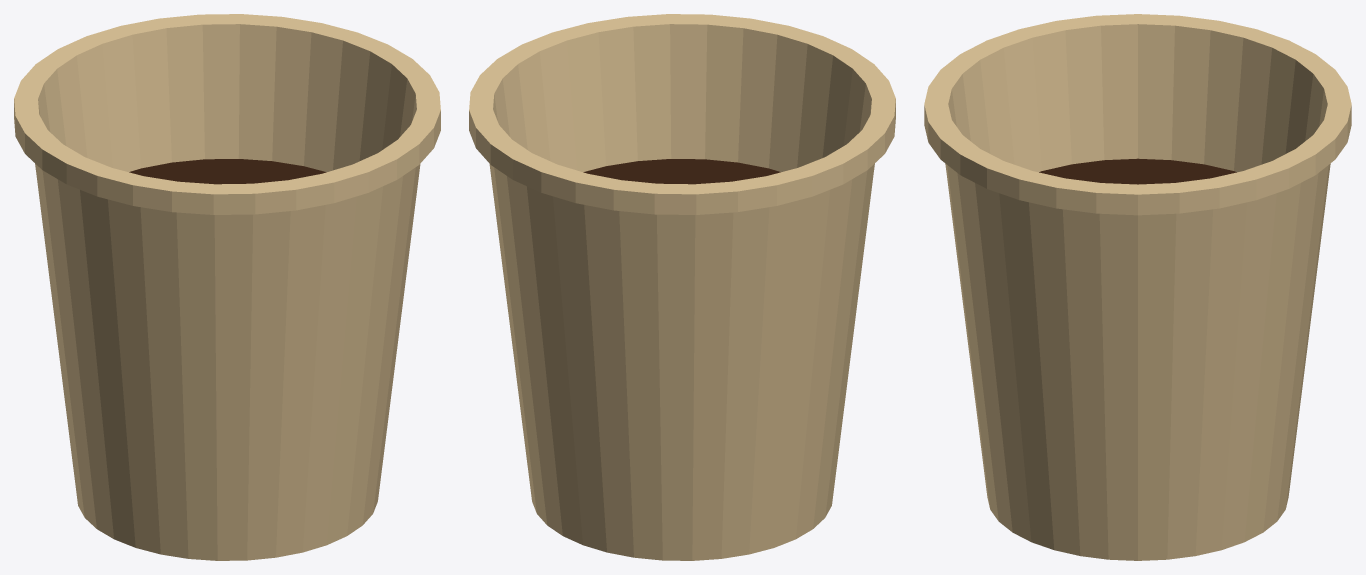
The model's file is Esspresso_Cup.fbx.
The picture shows the model from 3 angles, left to right: view 1: azimuth 30°, elevation 25°; view 2: azimuth 150°, elevation 25°; view 3: azimuth 270°, elevation 25°; orthographic projection.
Parts seen in each view (by area): view 1: Cylinder.002; view 2: Cylinder.002; view 3: Cylinder.002.
Boxes of the visible parts, box(x1,y1,x2,y2) form: Cylinder.002: box(14, 14, 440, 560); Cylinder.002: box(469, 14, 895, 560); Cylinder.002: box(924, 14, 1351, 560).
Size of the model in its own units: 15.61 by 15.84 by 15.61.
